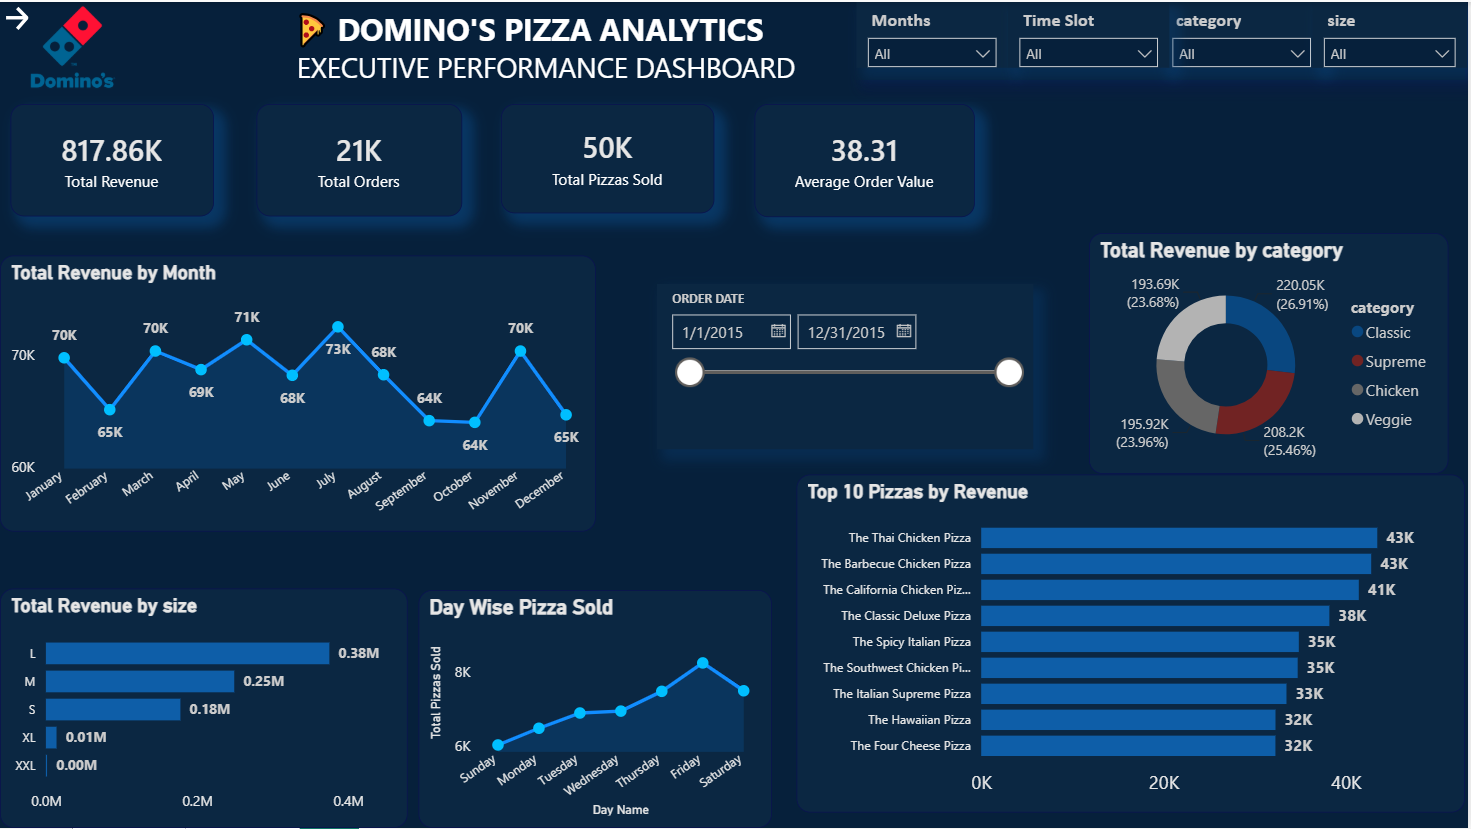

What the dashboard file says about the page in this screenshot:
{"tool":"powerbi","page":{"name":"Page 1","canvas":[1280,720],"ordinal":0},"visuals":[{"type":"shape","box":[745,0,531.5,68.1],"z":0},{"type":"slicer","fields":{"Values":["orders.months"]},"box":[746.5,0,131.7,57.5],"z":1000},{"type":"slicer","fields":{"Values":["Pizzatypes.category"]},"box":[1011.5,0,140.8,57.5],"z":2000},{"type":"slicer","fields":{"Values":["pizzas.size"]},"box":[1144.7,0,134.8,57.5],"z":3000},{"type":"slicer","fields":{"Values":["orders.Time Slot"]},"box":[878.2,0,140.8,57.5],"z":4000},{"type":"cardVisual","fields":{"Data":["Pizzatypes.Average Order Value"]},"box":[657.2,89.3,192.3,98.4],"z":5000},{"type":"cardVisual","fields":{"Data":["Pizzatypes.Total Orders"]},"box":[223,88.8,179.5,98.3],"z":6000},{"type":"cardVisual","fields":{"Data":["Pizzatypes.Total Pizzas Sold"]},"box":[436.1,89.3,186.2,95.4],"z":7000},{"type":"cardVisual","fields":{"Data":["Pizzatypes.Total Revenue"]},"box":[9.4,88.8,177.6,98.3],"z":8000},{"type":"areaChart","fields":{"Category":["orders.months"],"Y":["Pizzatypes.Total Revenue"]},"box":[0,221.1,519.4,240.8],"z":9000},{"type":"donutChart","fields":{"Category":["Pizzatypes.category"],"Y":["Pizzatypes.Total Revenue"]},"box":[564.8,202.9,313.4,210.5],"z":10000},{"type":"clusteredBarChart","fields":{"Category":["pizzas.size"],"Y":["Pizzatypes.Total Revenue"]},"box":[0,511.7,355,208.3],"z":11000},{"type":"clusteredBarChart","title":"TOP 5 PIZZAS BY REVENUE","fields":{"Category":["Pizzatypes.name"],"Y":["Pizzatypes.Total Revenue"]},"box":[913.1,202.9,340.7,210.5],"z":12000},{"type":"clusteredBarChart","title":"Top 10 Pizzas by Revenue","fields":{"Category":["Pizzatypes.name"],"Y":["Pizzatypes.Total Revenue"]},"box":[698,424,581.5,295.3],"z":13000},{"type":"image","box":[0,0,127.2,78.7],"z":14000},{"type":"textbox","box":[0,0,746.5,78.7],"z":15000},{"type":"slicer","fields":{"Values":["orders.date"]},"box":[998.3,68.3,276.7,120],"z":16000},{"type":"lineChart","title":"Day Wise Pizza Sold","fields":{"Category":["orders.Day Name"],"Y":["Pizzatypes.Total Pizzas Sold"]},"box":[375.5,511.8,307.4,207.4],"z":17000}]}

Visuals, with their boxes in screenshot pixels (x1, y1, x2, y2), scaled from the page's 1280x720 canvas onto the 1471x829 screenshot:
shape: (x1=856, y1=0, x2=1467, y2=78)
slicer - orders.months: (x1=858, y1=0, x2=1009, y2=66)
slicer - Pizzatypes.category: (x1=1162, y1=0, x2=1324, y2=66)
slicer - pizzas.size: (x1=1316, y1=0, x2=1470, y2=66)
slicer - orders.Time Slot: (x1=1009, y1=0, x2=1171, y2=66)
cardVisual - Pizzatypes.Average Order Value: (x1=755, y1=103, x2=976, y2=216)
cardVisual - Pizzatypes.Total Orders: (x1=256, y1=102, x2=463, y2=215)
cardVisual - Pizzatypes.Total Pizzas Sold: (x1=501, y1=103, x2=715, y2=213)
cardVisual - Pizzatypes.Total Revenue: (x1=11, y1=102, x2=215, y2=215)
areaChart - orders.months x Pizzatypes.Total Revenue: (x1=0, y1=255, x2=597, y2=532)
donutChart - Pizzatypes.category x Pizzatypes.Total Revenue: (x1=649, y1=234, x2=1009, y2=476)
clusteredBarChart - pizzas.size x Pizzatypes.Total Revenue: (x1=0, y1=589, x2=408, y2=828)
"TOP 5 PIZZAS BY REVENUE" clusteredBarChart: (x1=1049, y1=234, x2=1441, y2=476)
"Top 10 Pizzas by Revenue" clusteredBarChart: (x1=802, y1=488, x2=1470, y2=828)
image: (x1=0, y1=0, x2=146, y2=91)
textbox: (x1=0, y1=0, x2=858, y2=91)
slicer - orders.date: (x1=1147, y1=79, x2=1465, y2=217)
"Day Wise Pizza Sold" lineChart: (x1=432, y1=589, x2=785, y2=828)
